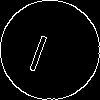I: (25, 25, 54, 73)
